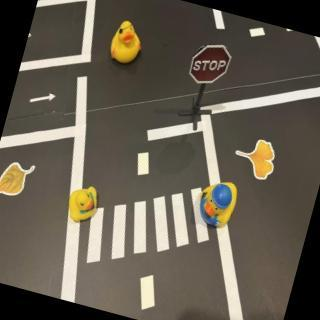duck_regular: (63, 180, 105, 228)
duck_specialty: (191, 175, 242, 234), (105, 18, 149, 70)
road_crosswalk: (77, 160, 225, 297)
road_oneway: (29, 88, 59, 113)
sign_stop: (187, 40, 234, 90)
